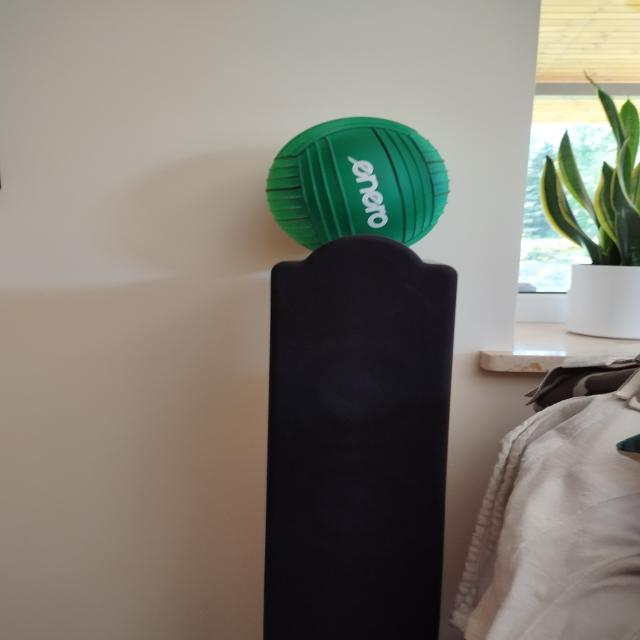zielona: (267, 117, 449, 251)
